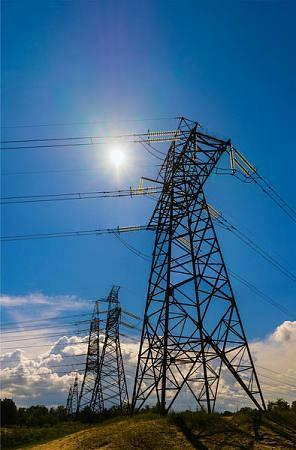power_tower: (134, 115, 273, 418), (94, 281, 143, 408), (78, 300, 102, 413)
